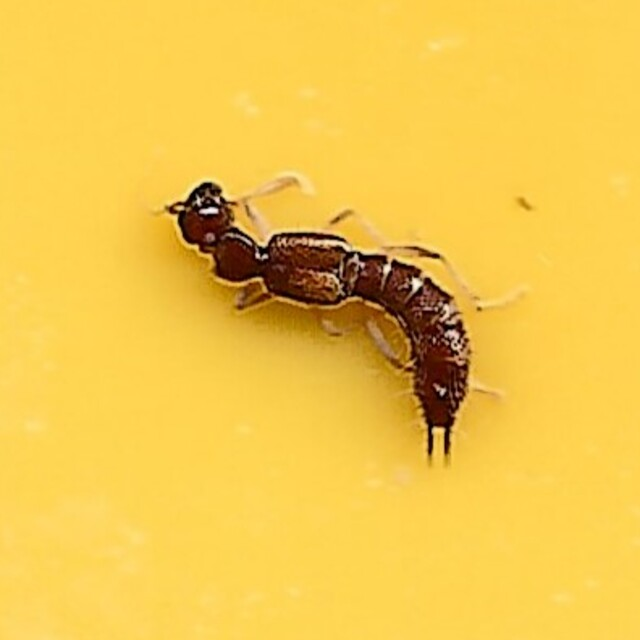Coleoptera: (162, 173, 478, 467)
